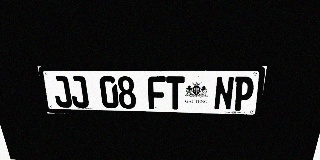0: (99, 76, 119, 108)
8: (117, 76, 136, 109)
F: (147, 76, 166, 109)
J: (51, 76, 73, 108), (68, 76, 89, 108)
N: (213, 76, 235, 110)
P: (232, 76, 255, 111)
T: (166, 76, 185, 110)
